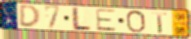7: (43, 5, 61, 31)
D: (18, 4, 42, 29)
E: (95, 8, 118, 33)
L: (71, 6, 93, 32)
O: (125, 10, 147, 34)
T: (151, 12, 169, 34)
